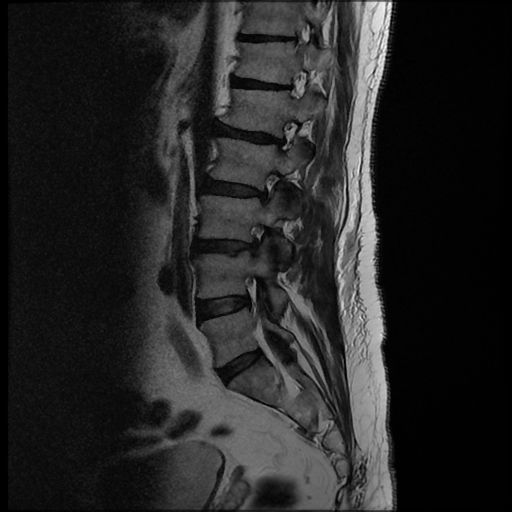RFS0: (268, 112, 304, 159)
RFS2: (248, 162, 289, 210), (236, 217, 275, 262)
